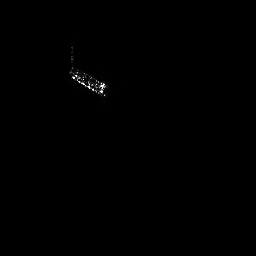ship: (66, 55, 106, 97)
